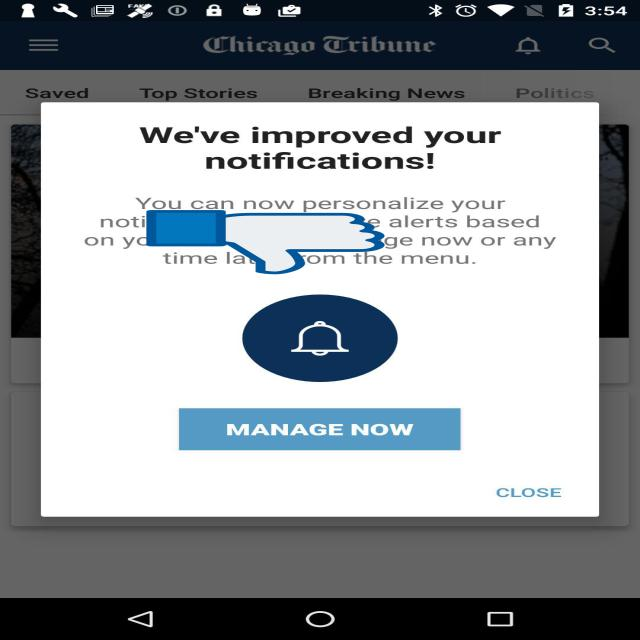obstruction: (146, 208, 384, 276)
